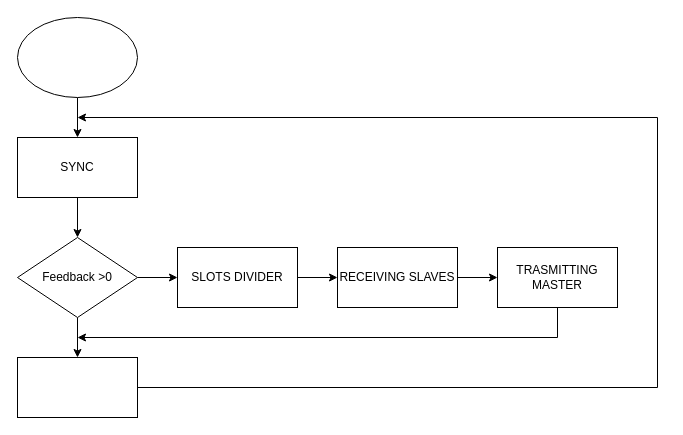
This 683x435 diagram has some shape labels left out. The shapes that lost their labels are listed below. From the top down, each one's box as (x1, y1, x2, y2) in pixels, then its label:
(16, 16, 138, 98): Start
(16, 356, 138, 418): FRAME END
